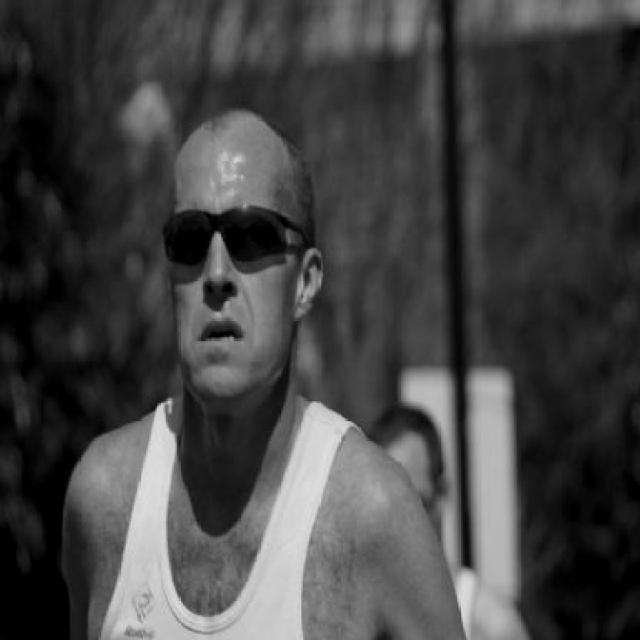face_nomask: (162, 212, 286, 358)
glasses: (164, 211, 310, 263)
head_nohelmet: (175, 116, 292, 184)
person: (62, 117, 444, 640)
